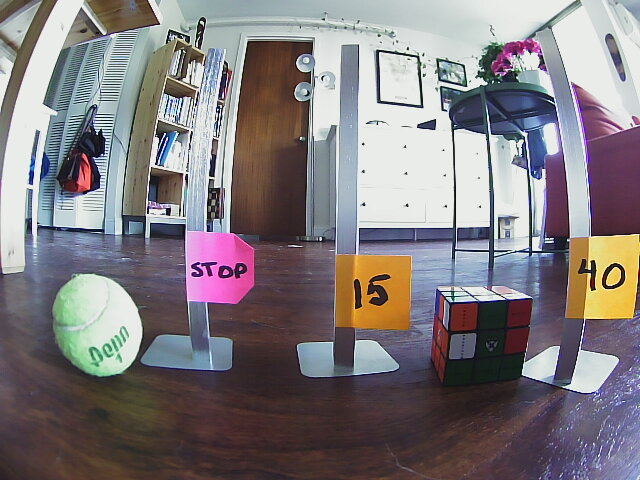15: (341, 258, 409, 326)
40: (569, 241, 635, 313)
ball: (51, 275, 142, 375)
cube: (434, 286, 533, 387)
stop: (188, 240, 251, 294)
